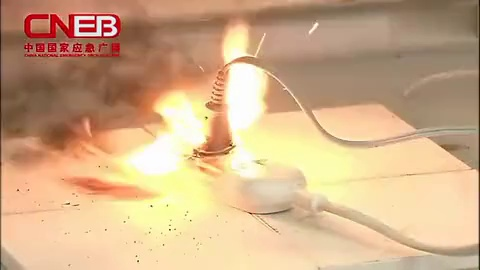fire: (210, 11, 274, 181), (125, 85, 209, 180)
